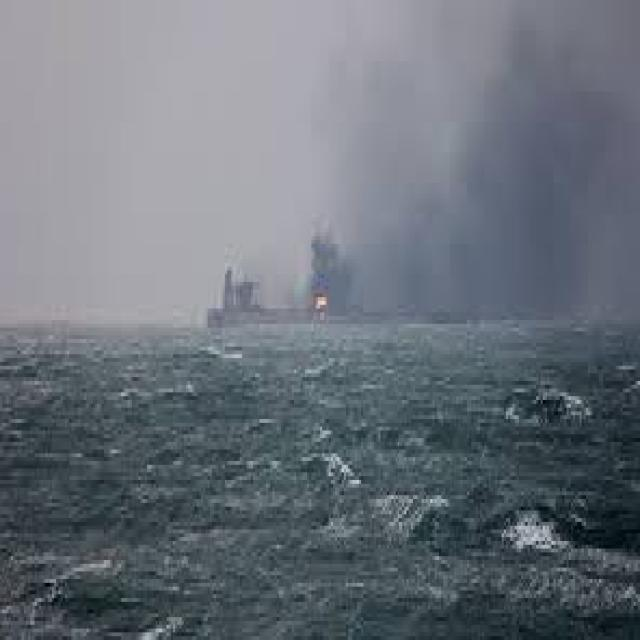cargoship: (213, 246, 422, 332)
